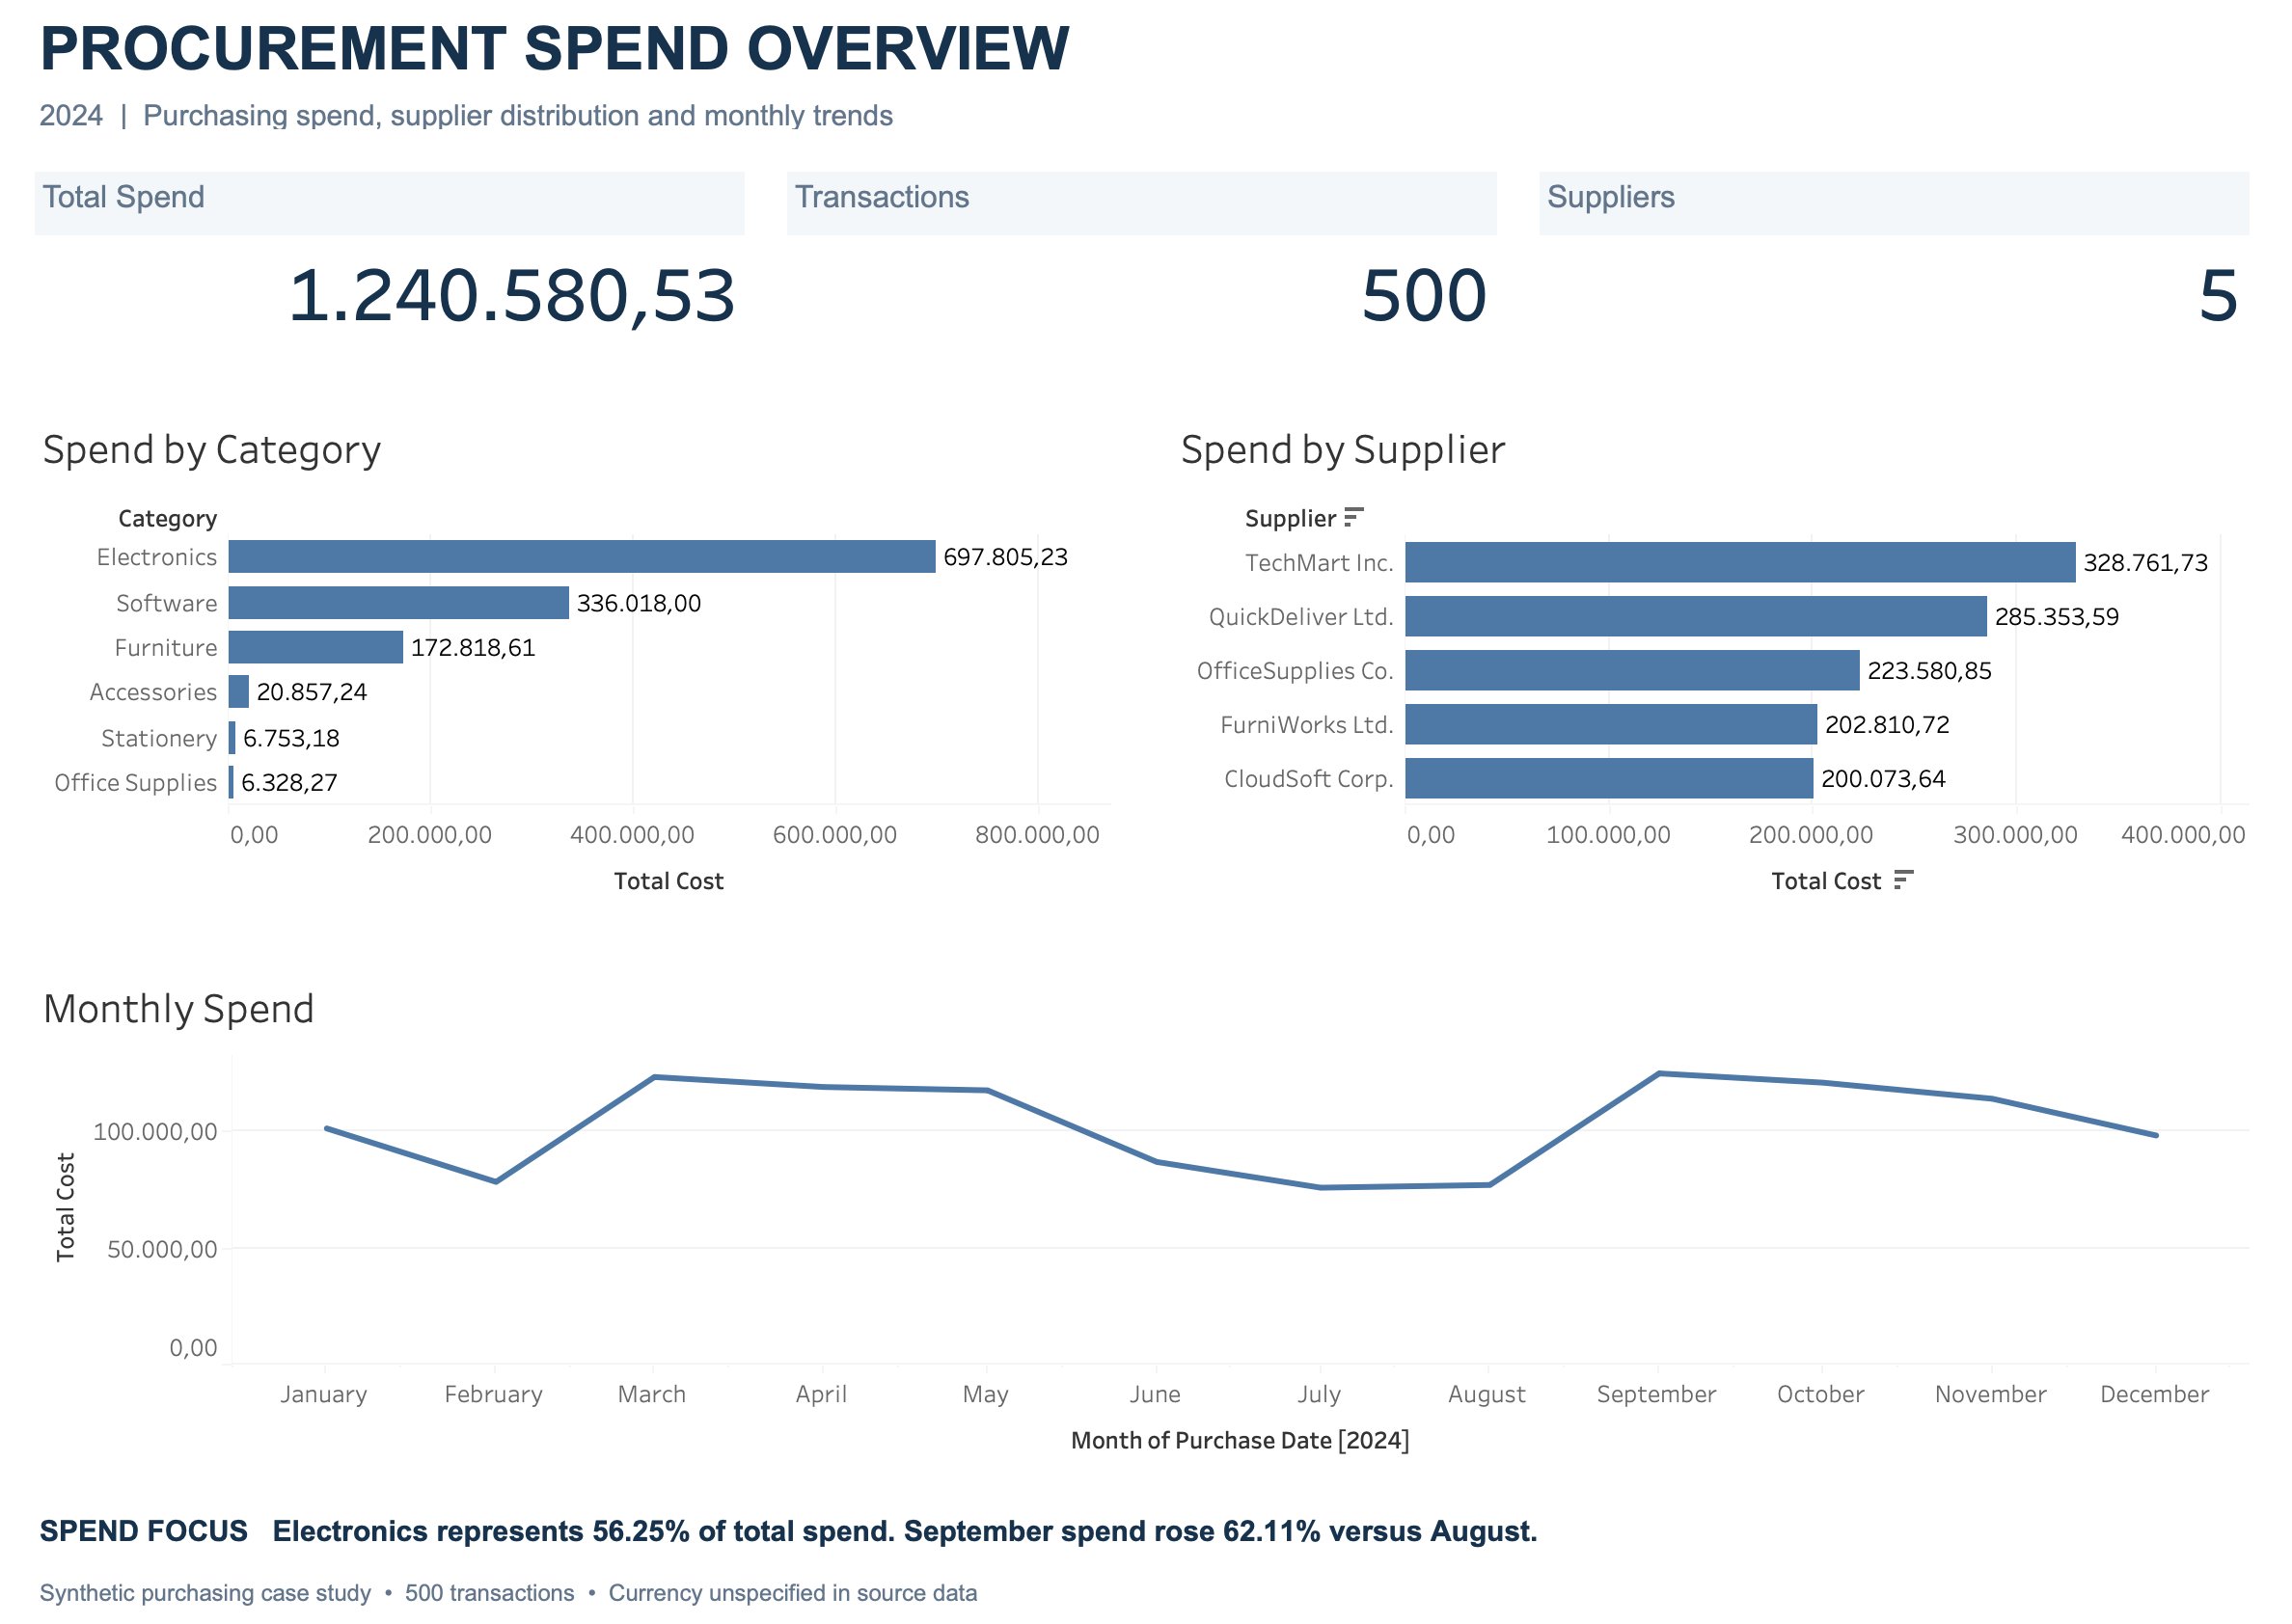

Layout of this report page (visuals, bound fields, positions):
{"tool":"tableau","page":{"name":"Procurement Spend Overview","canvas":[1200,850],"ordinal":0},"visuals":[{"type":"text","box":[20,12,1160,40]},{"type":"text","box":[20,53,1160,27]},{"type":"worksheet","title":"KPI Total Spend","mark":"Automatic","box":[20,90,380,105]},{"type":"worksheet","title":"KPI Transaction","mark":"Automatic","box":[410,90,380,105]},{"type":"worksheet","title":"KPI Supplier","mark":"Automatic","box":[800,90,380,105]},{"type":"worksheet","title":"Spend by Category","mark":"Automatic","rows":["Category"],"cols":["TotalCost"],"box":[20,215,570,270]},{"type":"worksheet","title":"Spend by Supplier","mark":"Automatic","rows":["Supplier"],"cols":["TotalCost"],"box":[610,215,570,270]},{"type":"worksheet","title":"Monthly Spend","mark":"Line","rows":["TotalCost"],"cols":["PurchaseDate"],"box":[20,505,1160,270]},{"type":"text","box":[20,786,1160,30]},{"type":"text","box":[20,821,1160,25]}]}

Visuals, with their boxes in screenshot pixels (x1, y1, x2, y2), scaled from the page's 1200x850 canvas onto the 2292x1624 screenshot:
text: box=[39, 23, 2253, 99]
text: box=[39, 101, 2253, 152]
"KPI Total Spend" worksheet: box=[39, 172, 764, 372]
"KPI Transaction" worksheet: box=[783, 172, 1509, 372]
"KPI Supplier" worksheet: box=[1528, 172, 2253, 372]
"Spend by Category" worksheet: box=[39, 411, 1127, 927]
"Spend by Supplier" worksheet: box=[1165, 411, 2253, 927]
"Monthly Spend" worksheet (Line marks): box=[39, 964, 2253, 1480]
text: box=[39, 1502, 2253, 1559]
text: box=[39, 1569, 2253, 1616]
